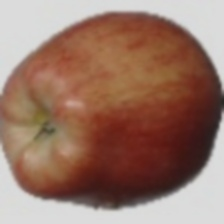apple: (43, 52, 210, 192)
